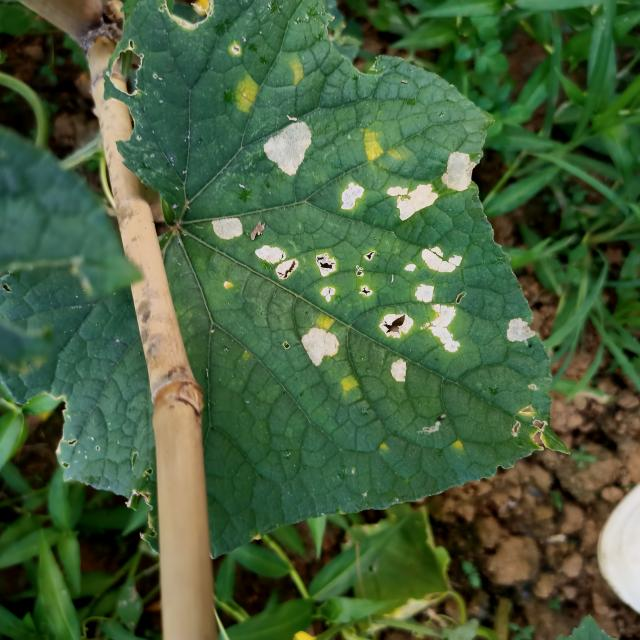disease_cucumber: (252, 238, 478, 390), (257, 116, 326, 183), (383, 182, 440, 220), (500, 309, 540, 356), (360, 124, 404, 166), (440, 149, 482, 191), (226, 73, 263, 116), (334, 180, 368, 217), (209, 217, 247, 249), (283, 56, 312, 92), (334, 373, 360, 396), (313, 313, 337, 330)
